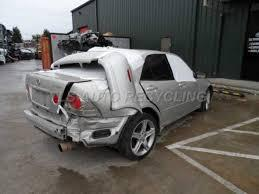quaterpanel-dent: (70, 87, 119, 119)
rear-bumper-dent: (40, 117, 115, 145)
